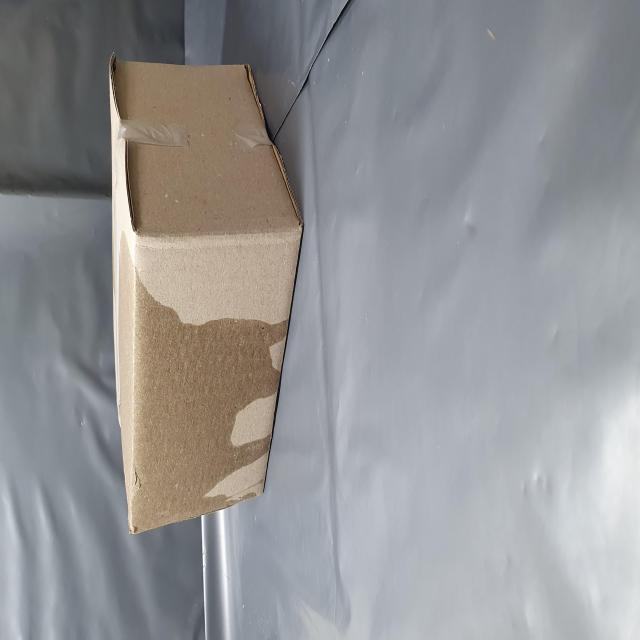wet: (66, 199, 225, 522)
